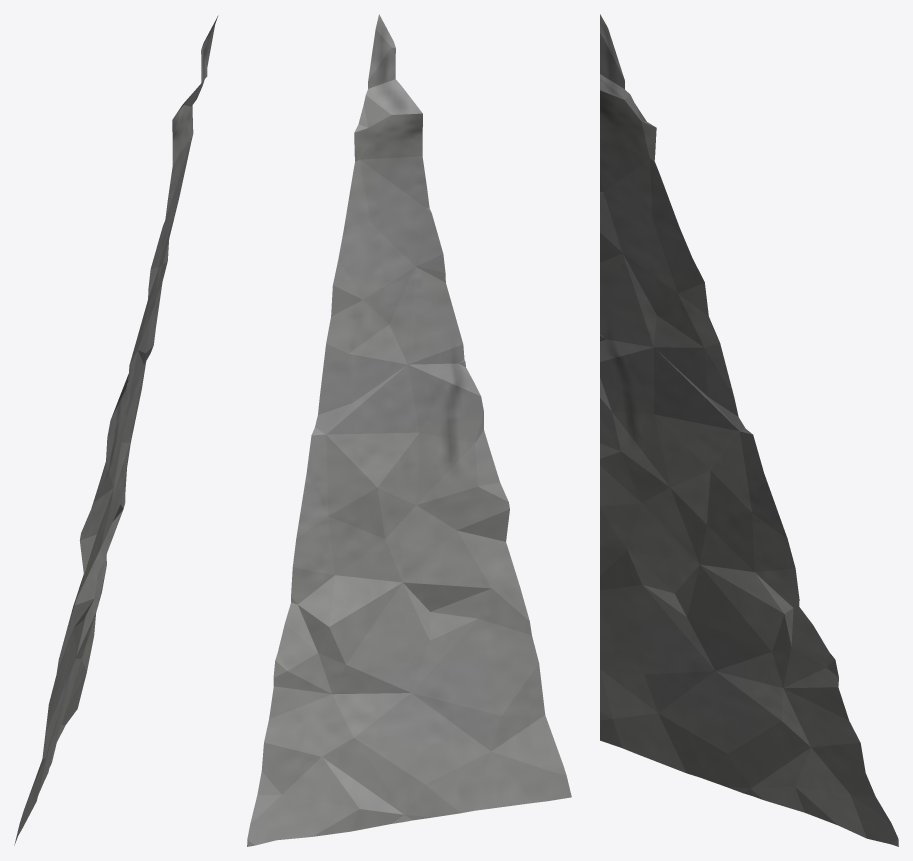
The picture shows the model from 3 angles, left to right: view 1: azimuth 30°, elevation 25°; view 2: azimuth 150°, elevation 25°; view 3: azimuth 270°, elevation 25°; orthographic projection. The views are drawn at different scales.
Size of the model in its own units: 0.1397 by 0.51 by 0.1658.
1 material, 1 textured.
